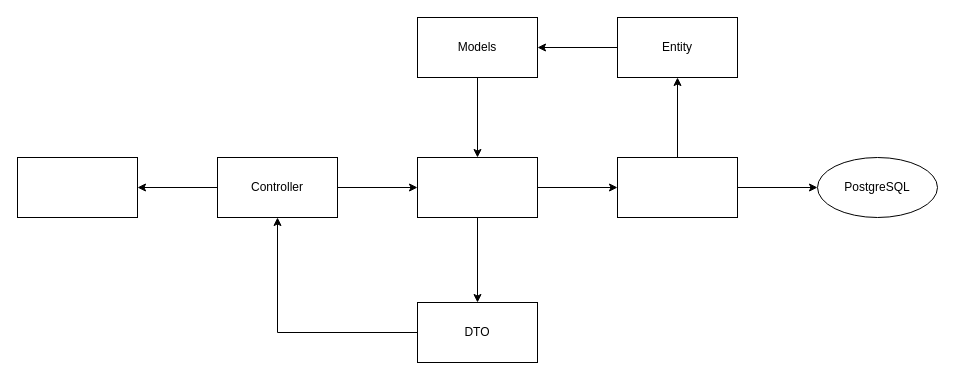
This 955x380 diagram has some shape labels left out. The shapes that lost their labels are listed below. From the top down, each one's centre as x and y in pixels, then its label:
point (77, 187): Client Http
point (477, 187): Service
point (677, 187): Repository
